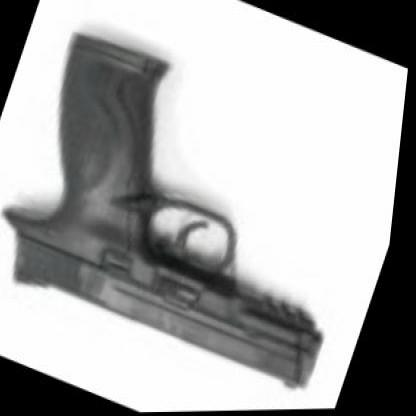pistol: (0, 21, 404, 408)
